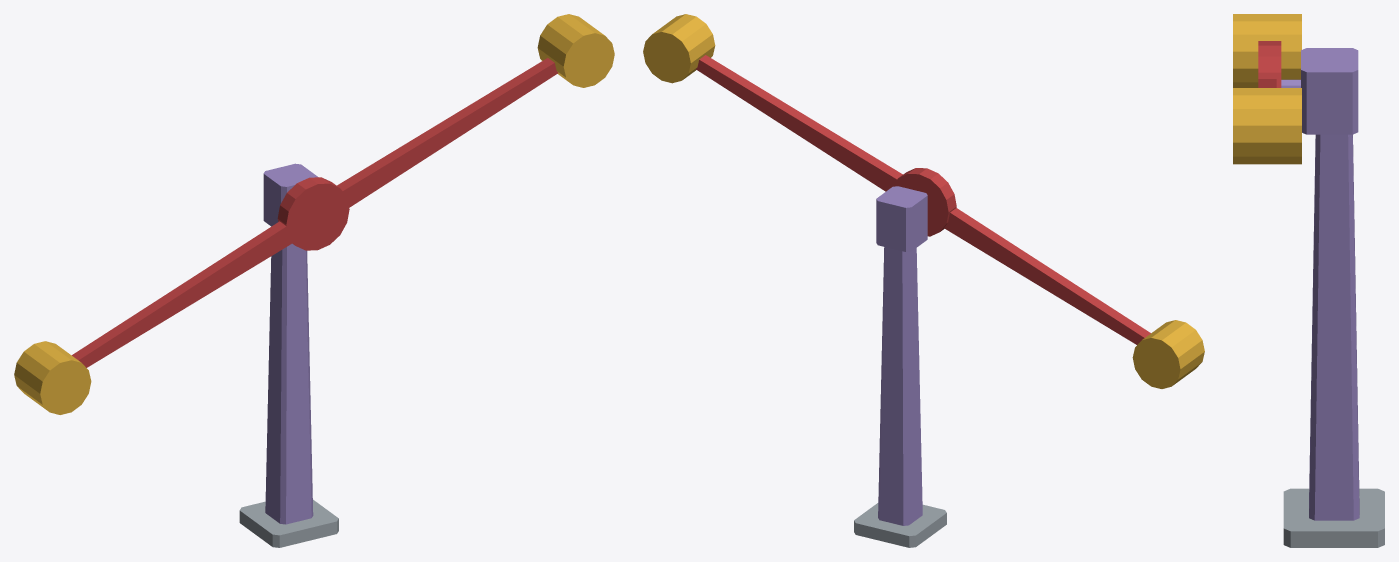
The model's file is nyc-zenobio.glb.
3 renders of one model, left to right at view 1: azimuth 30°, elevation 25°; view 2: azimuth 150°, elevation 25°; view 3: azimuth 270°, elevation 25°, orthographic. The views are drawn at different scales.
Parts seen in each view (by area): view 1: arm, Zenobio; view 2: arm, Zenobio; view 3: Zenobio, arm.
Part boxes in pixels (x1=…): arm: x1=14, y1=14, x2=614, y2=414; Zenobio: x1=239, y1=163, x2=338, y2=547; arm: x1=643, y1=14, x2=1204, y2=388; Zenobio: x1=854, y1=186, x2=946, y2=547; Zenobio: x1=1281, y1=48, x2=1384, y2=547; arm: x1=1233, y1=14, x2=1301, y2=164.
Size of the model in its own units: 38.17 by 28.98 by 6.6.
